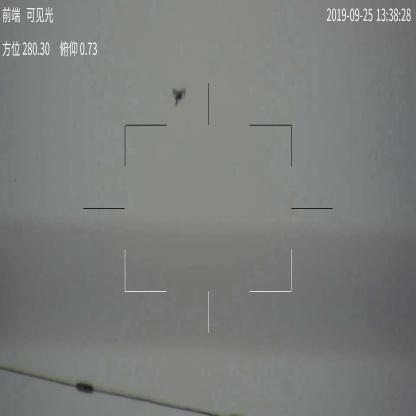uav: (171, 86, 186, 108)
